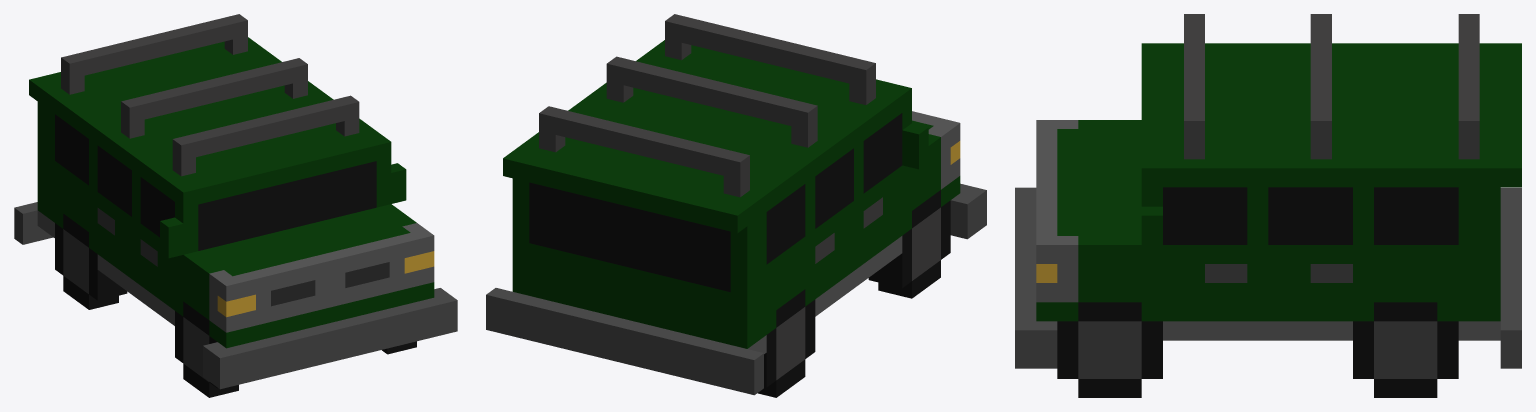
File: jeep_green.fbx
3 views of the same model, side by side, from view 1: azimuth 30°, elevation 25°; view 2: azimuth 150°, elevation 25°; view 3: azimuth 270°, elevation 25° (orthographic). The views are drawn at different scales.
Parts seen in each view (by area): view 1: Matrix_3; view 2: Matrix_3; view 3: Matrix_3.
Part boxes in pixels (left/top/right/bottom): Matrix_3: left=14, top=14, right=457, bottom=397; Matrix_3: left=486, top=14, right=986, bottom=397; Matrix_3: left=1015, top=14, right=1521, bottom=397.
Size of the model in its own units: 16 by 14 by 24.
